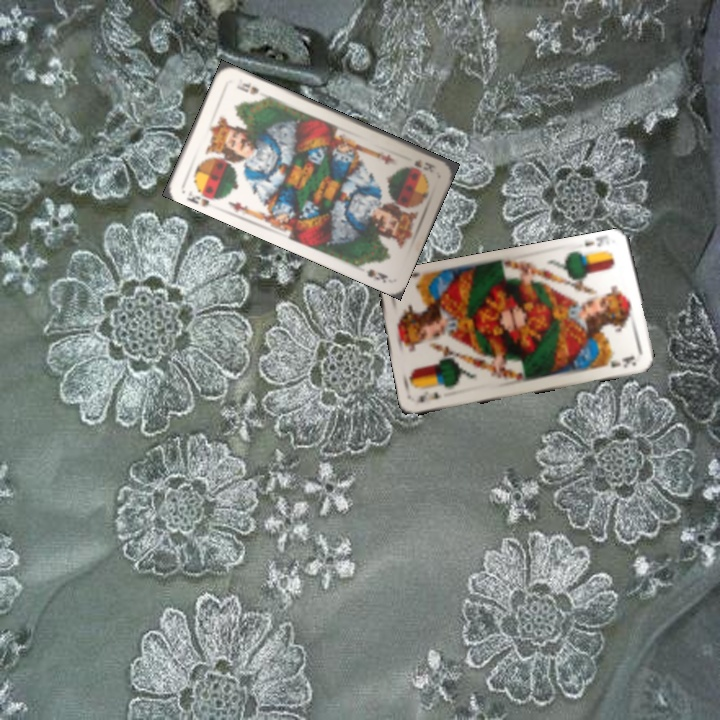EK: (413, 388, 444, 405), (581, 233, 610, 250)
SK: (183, 191, 212, 209), (410, 156, 438, 172)
